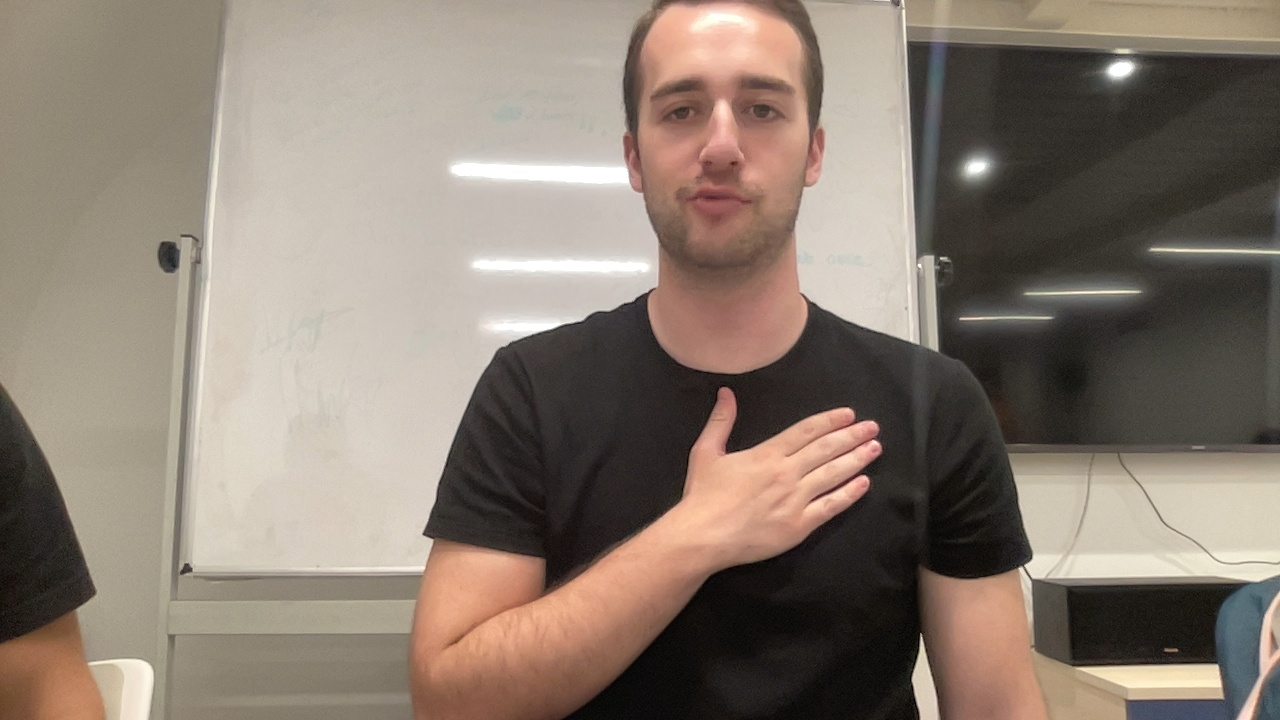Please: (407, 384, 889, 714)
